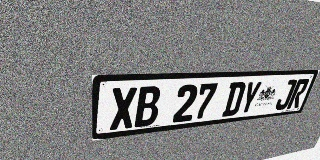2: (172, 84, 199, 123)
7: (192, 83, 218, 120)
B: (134, 86, 161, 127)
D: (221, 82, 247, 117)
J: (274, 79, 298, 110)
R: (286, 79, 310, 109)
X: (110, 87, 137, 130)
Y: (237, 81, 263, 115)
